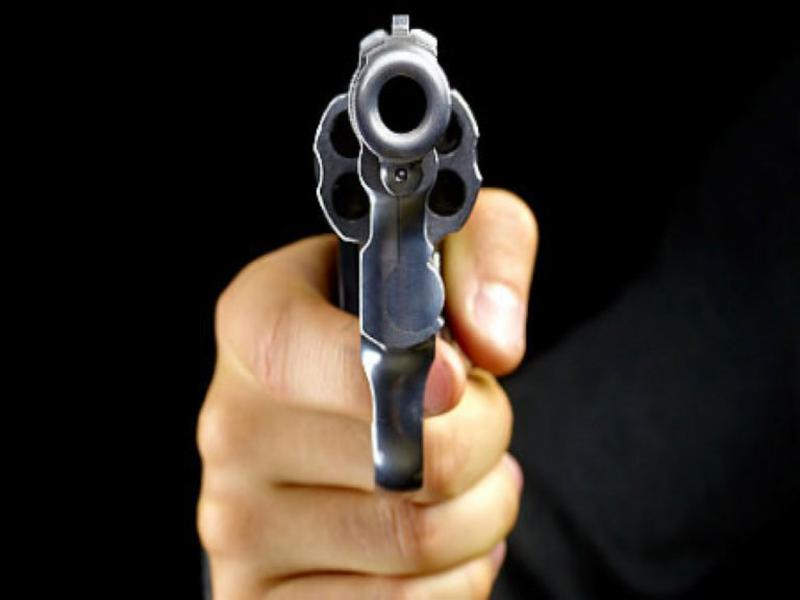Revolver: (309, 15, 487, 505)
